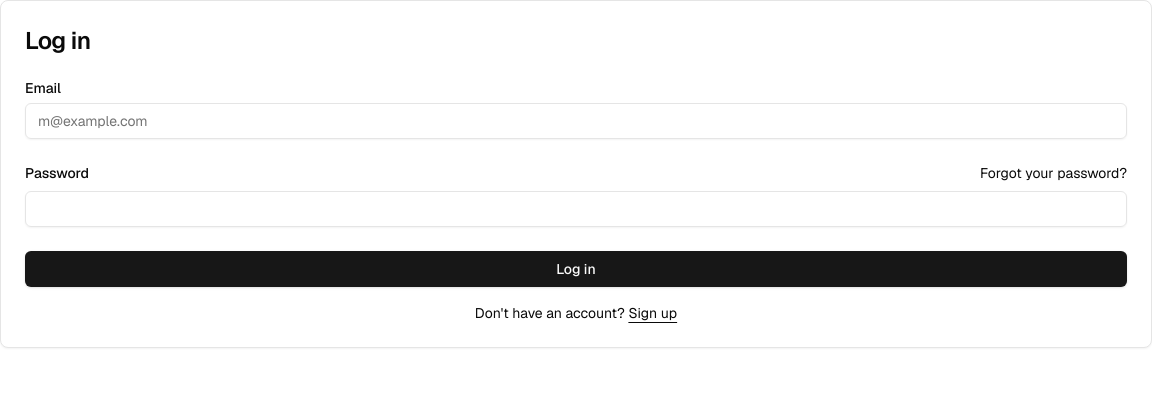
it: auth forms › shows login errors
Type "person@example.com" into the field labelled "Email" at (576,121), box [25,103,1127,139]
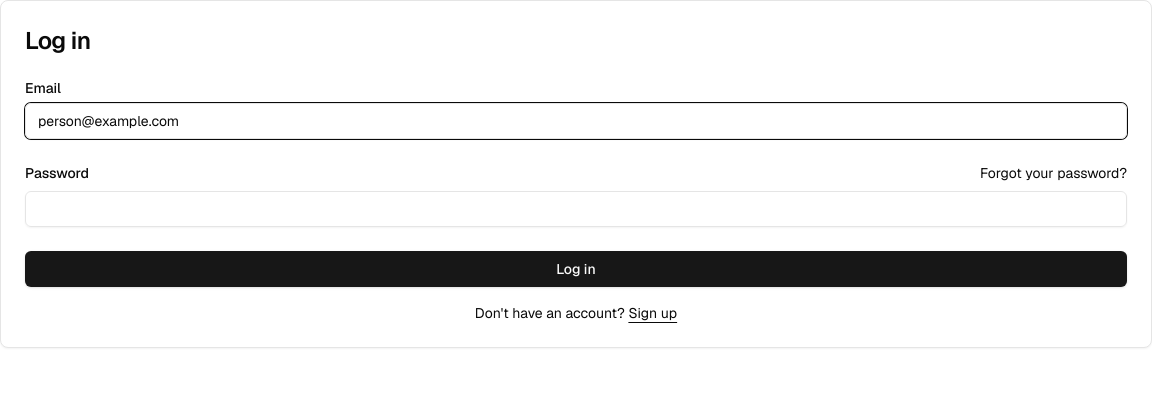
Type "bad-password" into the password field labelled "Password" at (576,209), box [25,191,1127,227]
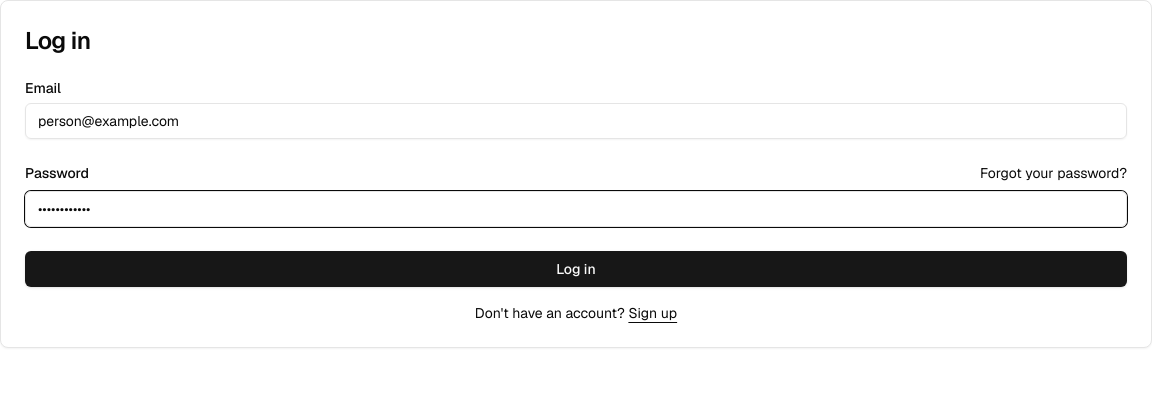
Click the button "Log in" at (576,269), box [25,251,1127,287]
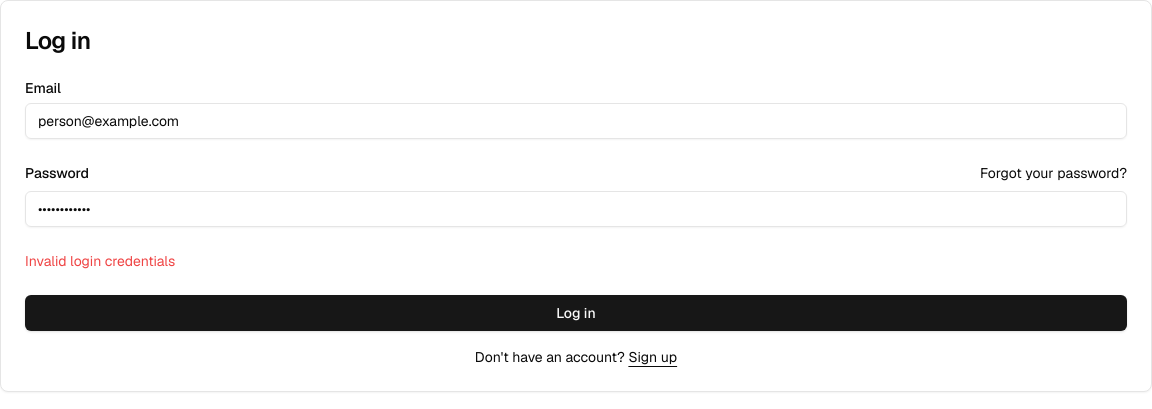
Check: the text "Invalid login credentials" is shown, box [25,252,175,270]
